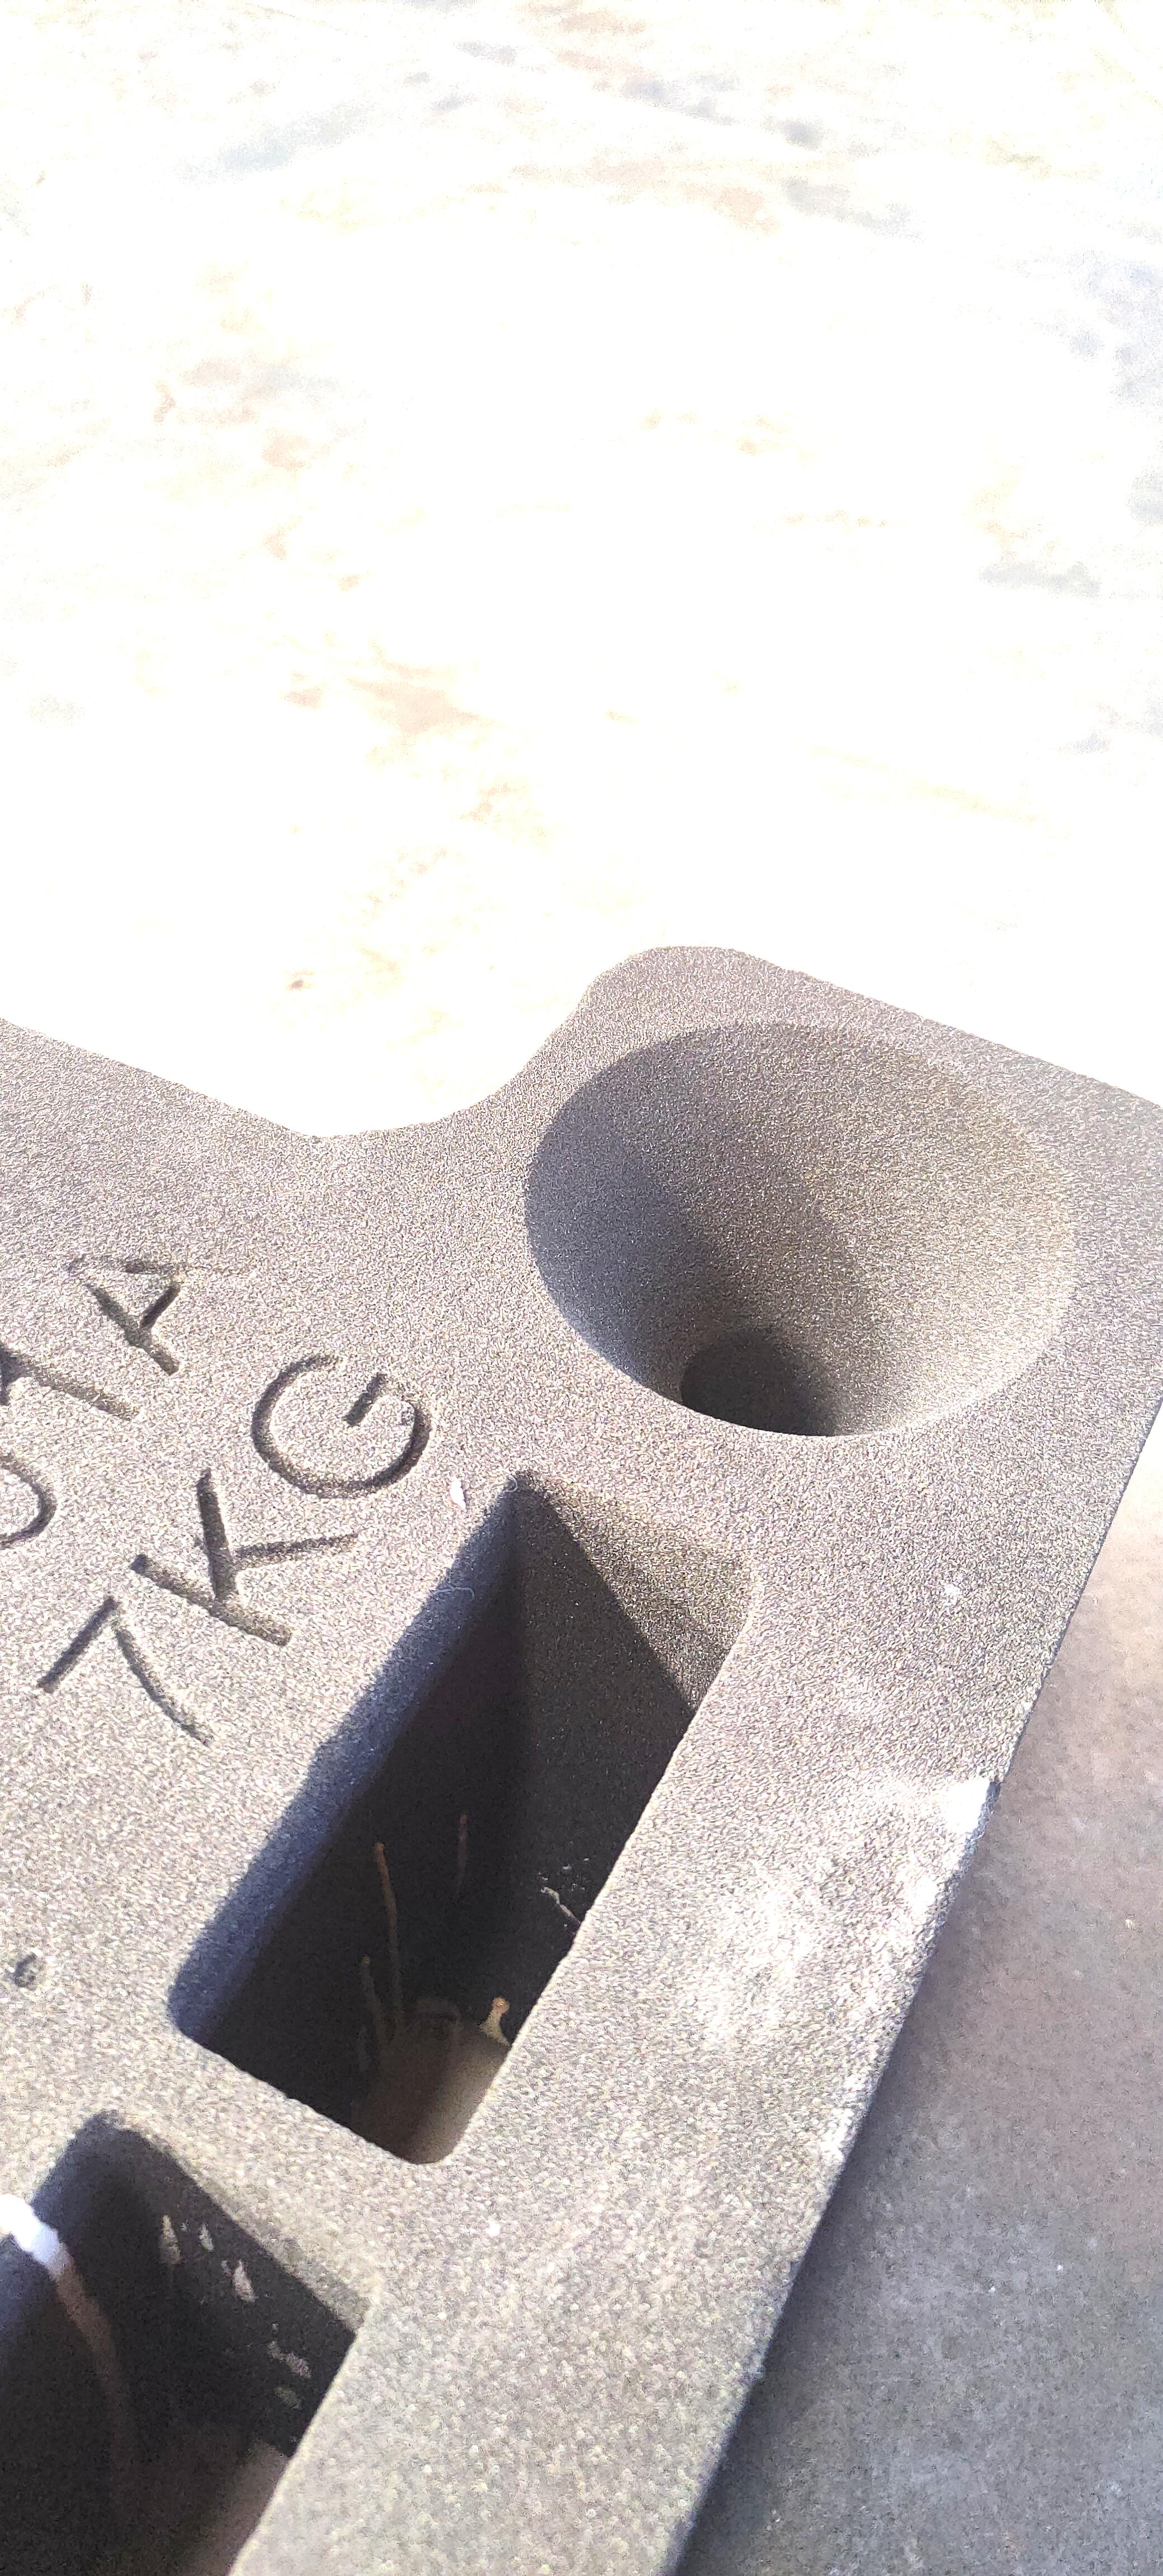pouring hole: (522, 1017, 1078, 1444)
